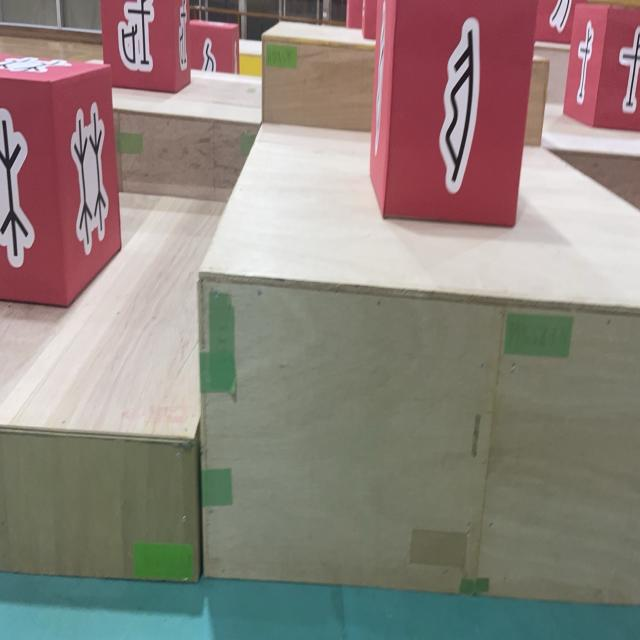10: (202, 38, 216, 73), (234, 41, 238, 74)
11: (439, 16, 480, 194), (376, 1, 385, 154)
3: (550, 0, 572, 32)
5: (118, 0, 154, 73), (179, 0, 187, 70)
6: (70, 102, 109, 255), (0, 108, 35, 268), (0, 56, 72, 75)
9: (620, 26, 640, 114), (578, 20, 594, 104)
fighter: (370, 0, 538, 228), (0, 53, 121, 306), (562, 3, 640, 131), (100, 0, 190, 94), (186, 18, 240, 74), (536, 0, 586, 44), (363, 0, 377, 40), (346, 0, 363, 29)
